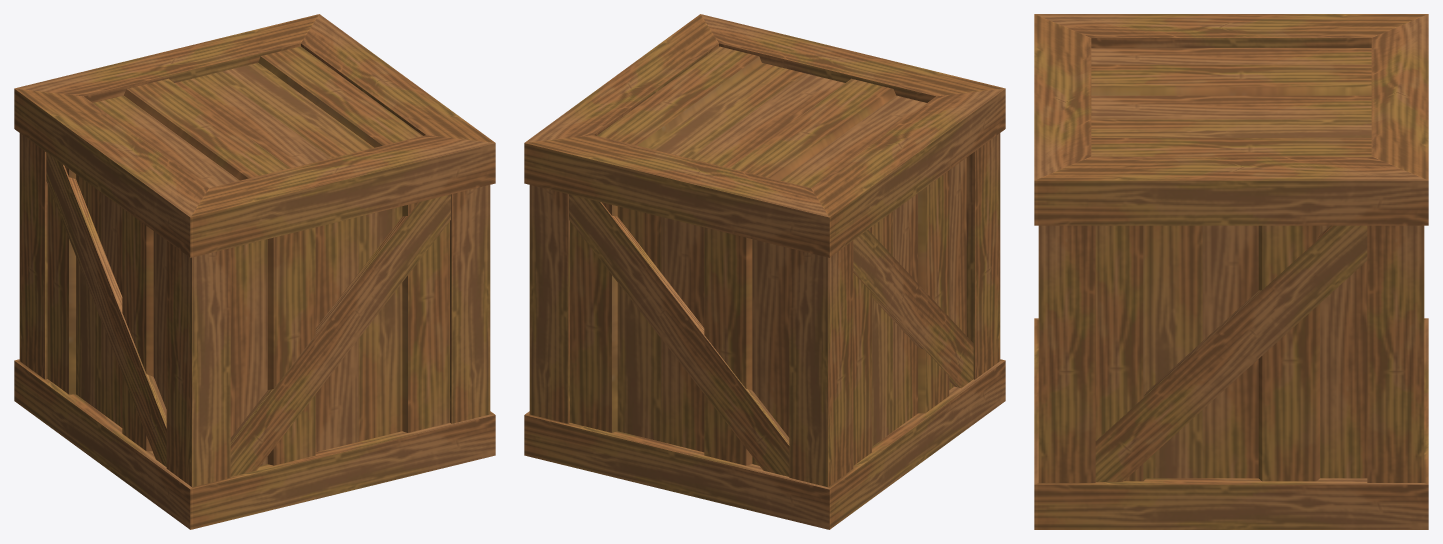
File: Prop_Crate.gltf
3 renders of one model, left to right at view 1: azimuth 30°, elevation 25°; view 2: azimuth 150°, elevation 25°; view 3: azimuth 270°, elevation 25°, orthographic. The views are drawn at different scales.
Parts seen in each view (by area): view 1: Prop_Crate; view 2: Prop_Crate; view 3: Prop_Crate.
Part boxes in pixels (x1,y1,x2,y2): Prop_Crate: (14, 14, 495, 529); Prop_Crate: (524, 14, 1005, 529); Prop_Crate: (1034, 14, 1428, 529).
Size of the model in its own units: 1.08 by 1.06 by 1.08.
1 material, 1 textured.
